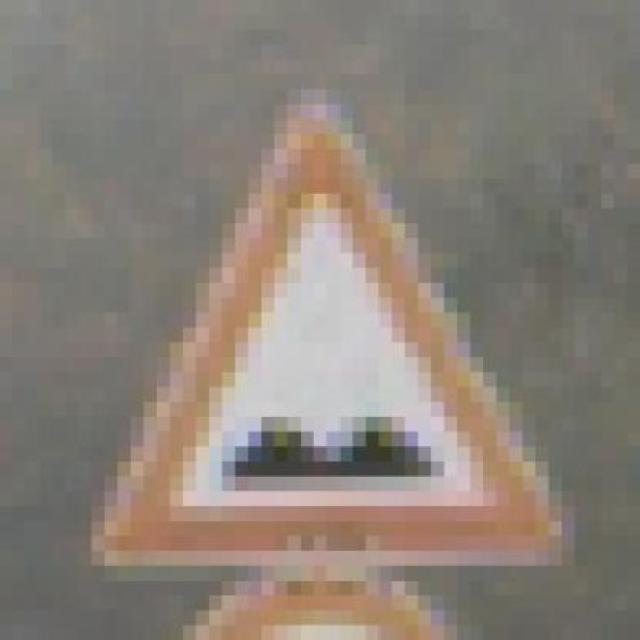Uneven Road: (91, 74, 574, 580)
